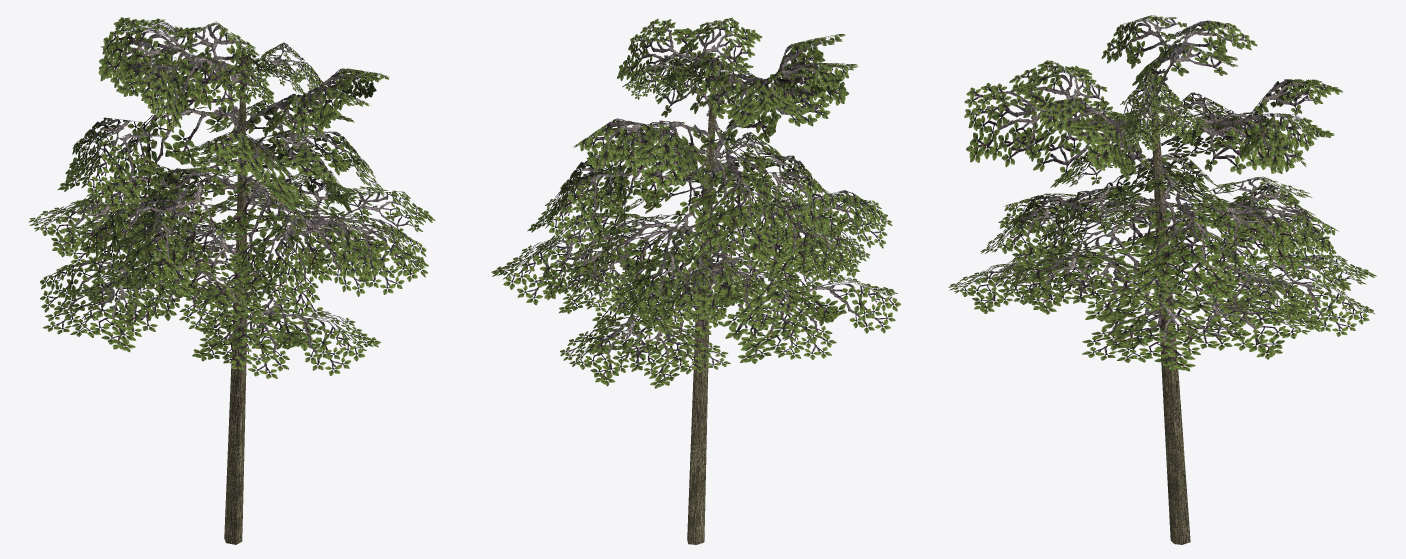
File: tropic_forest_biome_tree_2.glb
The picture shows the model from 3 angles, left to right: view 1: azimuth 30°, elevation 25°; view 2: azimuth 150°, elevation 25°; view 3: azimuth 270°, elevation 25°; orthographic projection. The views are drawn at different scales.
Visible parts, largest first — view 1: tropic_forest_biome_tree_2; view 2: tropic_forest_biome_tree_2; view 3: tropic_forest_biome_tree_2.
Boxes of the visible parts, x1,y1,x2,y2 form: tropic_forest_biome_tree_2: (28,17,435,544); tropic_forest_biome_tree_2: (491,17,900,544); tropic_forest_biome_tree_2: (948,15,1376,544).
Size of the model in its own units: 5.28 by 6.7 by 5.74.
Materials: 1 (1 with a texture image).
